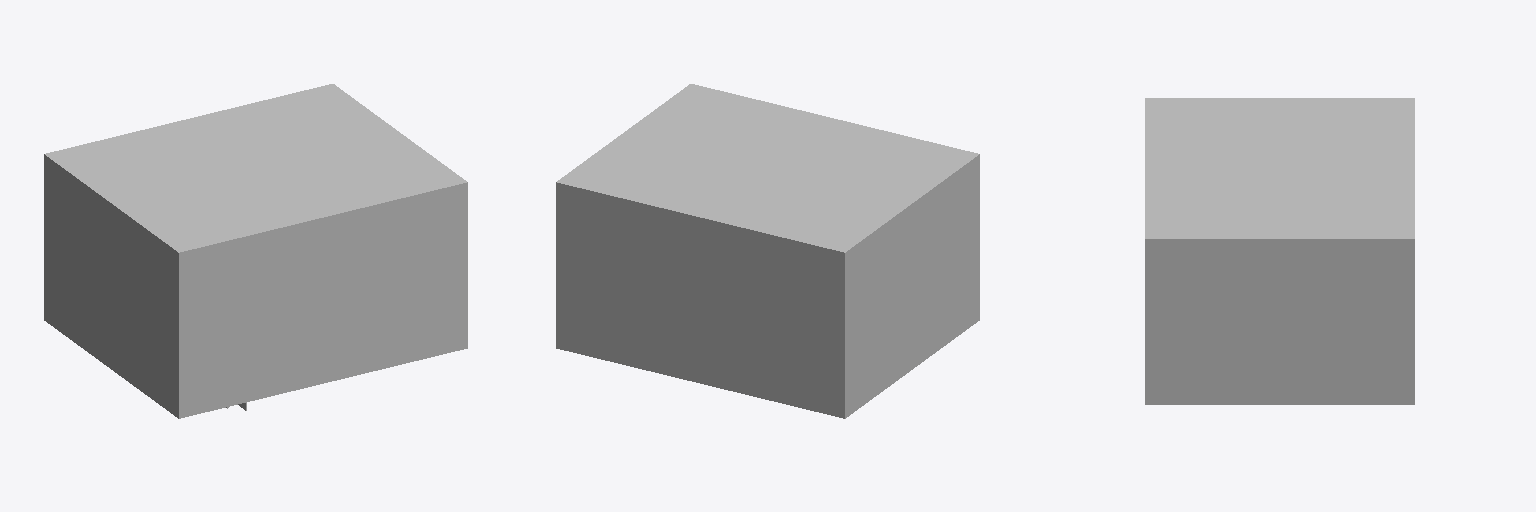
Rendered from Room6HitboxData.obj.
The picture shows the model from 3 angles: view 1: azimuth 30°, elevation 25°; view 2: azimuth 150°, elevation 25°; view 3: azimuth 270°, elevation 25°; orthographic projection.
Visible parts, largest first — view 1: Big_Cube_Cube.424; view 2: Big_Cube_Cube.424; view 3: Big_Cube_Cube.424.
Boxes of the visible parts, x1=… form: Big_Cube_Cube.424: x1=44, y1=84, x2=467, y2=418; Big_Cube_Cube.424: x1=556, y1=84, x2=979, y2=418; Big_Cube_Cube.424: x1=1145, y1=98, x2=1414, y2=404.
Size of the model in its own units: 224 by 130 by 181.